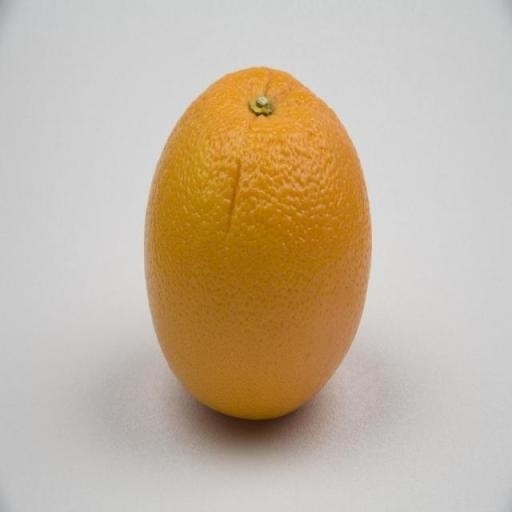fruit: (145, 68, 371, 418)
